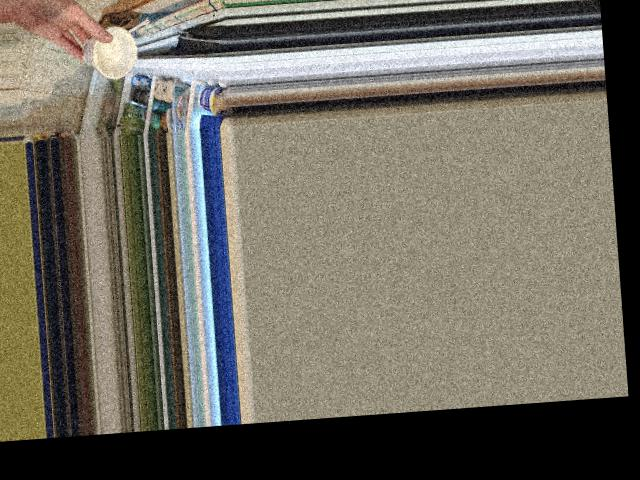cotage: (76, 20, 138, 72)
